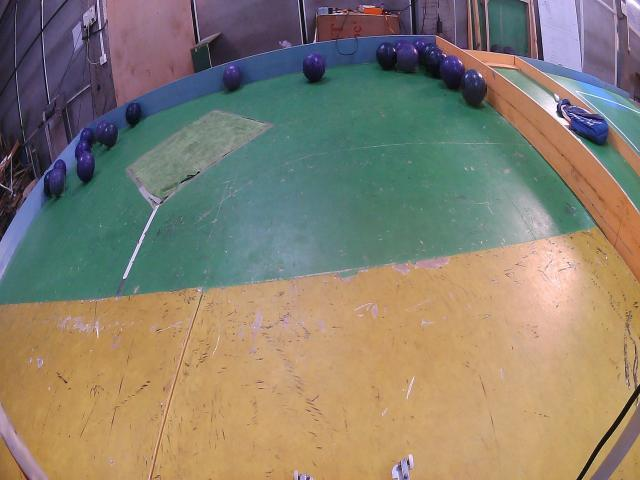jambhalya: (441, 56, 465, 89), (304, 54, 326, 83), (398, 44, 419, 72), (77, 153, 95, 182), (223, 65, 242, 90), (50, 169, 65, 196), (75, 140, 90, 160), (96, 121, 108, 144), (413, 39, 430, 55), (81, 128, 94, 146), (54, 159, 67, 175), (395, 40, 411, 50)
kaalyya: (462, 70, 486, 106), (426, 49, 445, 78), (377, 43, 397, 69), (102, 125, 118, 149), (420, 43, 438, 64), (125, 103, 141, 126), (44, 171, 52, 197)
